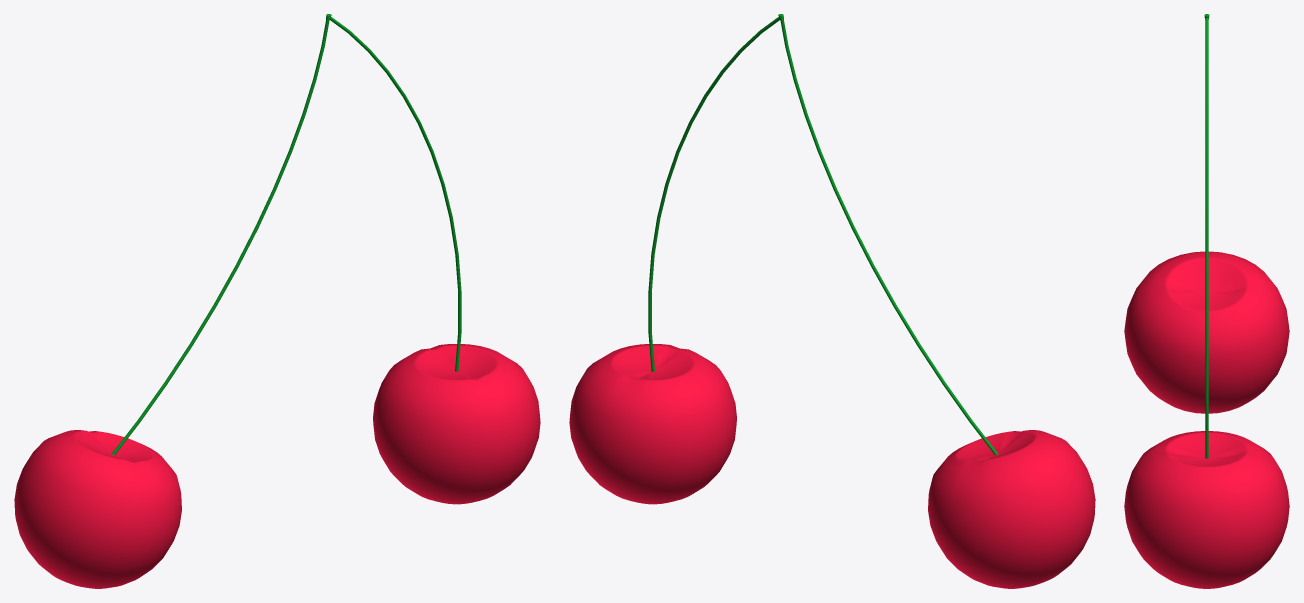
The model's file is asset.gltf.
The picture shows the model from 3 angles, left to right: view 1: azimuth 30°, elevation 25°; view 2: azimuth 150°, elevation 25°; view 3: azimuth 270°, elevation 25°; orthographic projection.
Visible parts, largest first — view 1: 球.001, 球, ベジエカーブ.001; view 2: 球.001, 球, ベジエカーブ.001; view 3: 球, 球.001, ベジエカーブ.001.
Boxes of the visible parts, x1,y1,x2,y2 form: 球.001: [373, 344, 540, 504]; 球: [14, 430, 181, 588]; ベジエカーブ.001: [111, 14, 461, 454]; 球.001: [569, 344, 736, 504]; 球: [928, 430, 1095, 588]; ベジエカーブ.001: [648, 14, 998, 454]; 球: [1124, 251, 1289, 413]; 球.001: [1124, 431, 1289, 588]; ベジエカーブ.001: [1204, 14, 1209, 458].
Bounding box in the file's own units: 3.14 × 3.05 × 0.9068.
